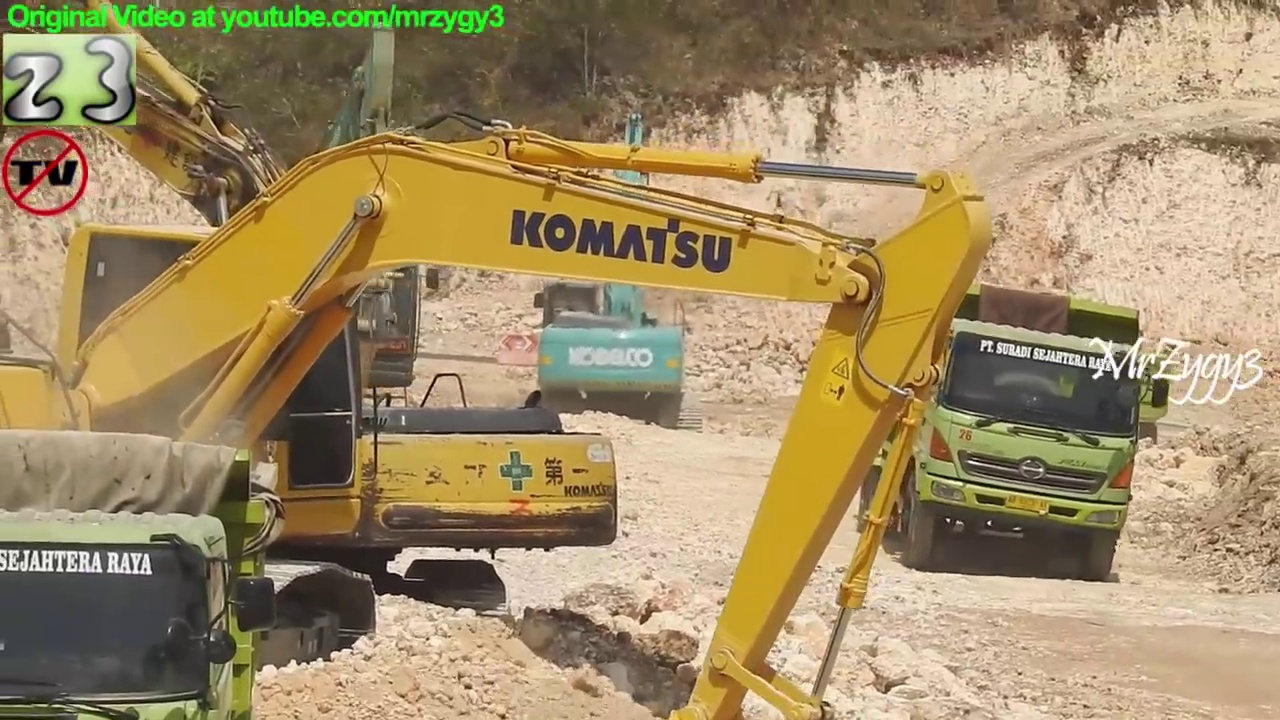excavator: (3, 106, 994, 720), (4, 1, 626, 664), (503, 105, 716, 443)
truck: (838, 267, 1177, 589), (1, 426, 287, 720)
